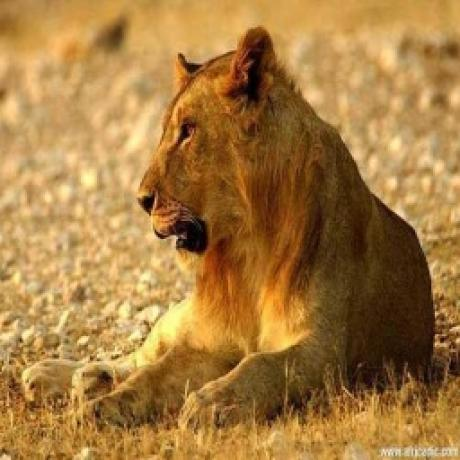Lion: (22, 24, 436, 422)
